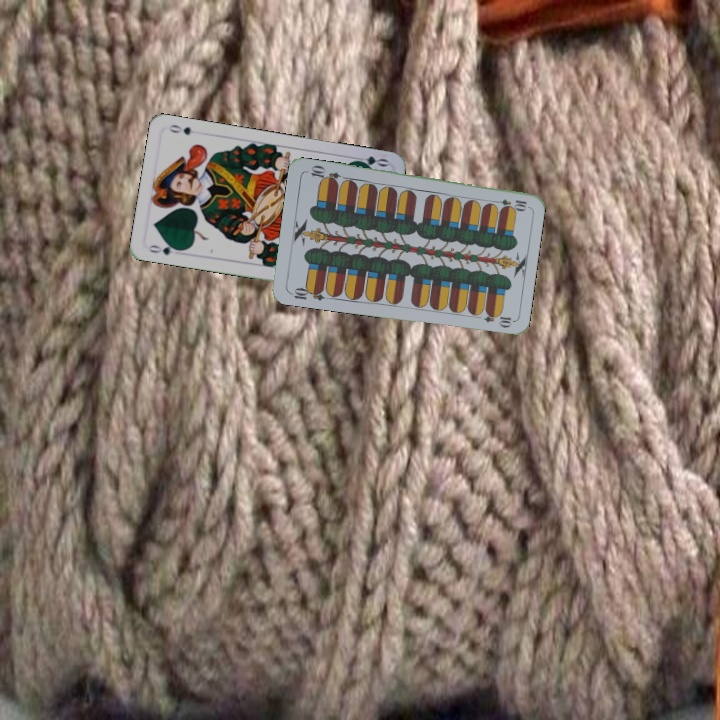E10: (286, 283, 326, 303), (489, 195, 529, 211)
GO: (349, 152, 390, 171), (145, 240, 185, 258)
